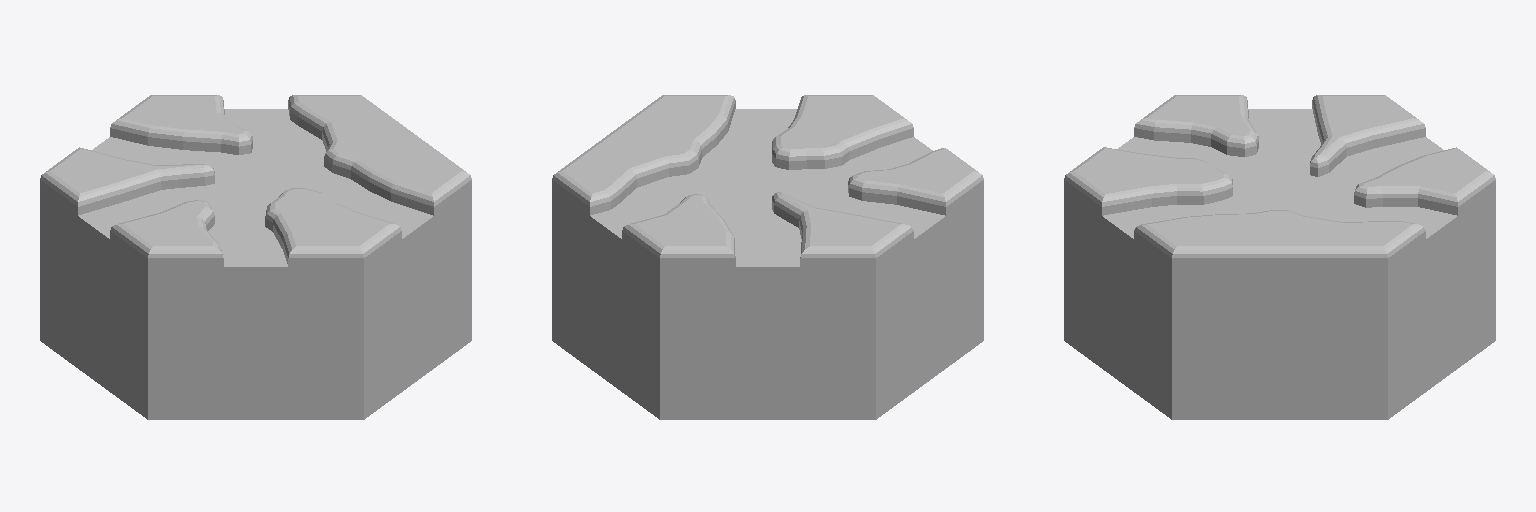
The model's file is hex_forest_roadL.obj.
3 renders of one model, left to right at view 1: azimuth 30°, elevation 25°; view 2: azimuth 150°, elevation 25°; view 3: azimuth 270°, elevation 25°, orthographic.
Visible parts, largest first — view 1: hex_forest_roadL_Cylinder.498; view 2: hex_forest_roadL_Cylinder.498; view 3: hex_forest_roadL_Cylinder.498.
Part boxes in pixels (x1,y1,x2,y2): hex_forest_roadL_Cylinder.498: (40, 95, 471, 419); hex_forest_roadL_Cylinder.498: (552, 95, 983, 419); hex_forest_roadL_Cylinder.498: (1064, 95, 1495, 419).
Size of the model in its own units: 2 by 1 by 2.31.